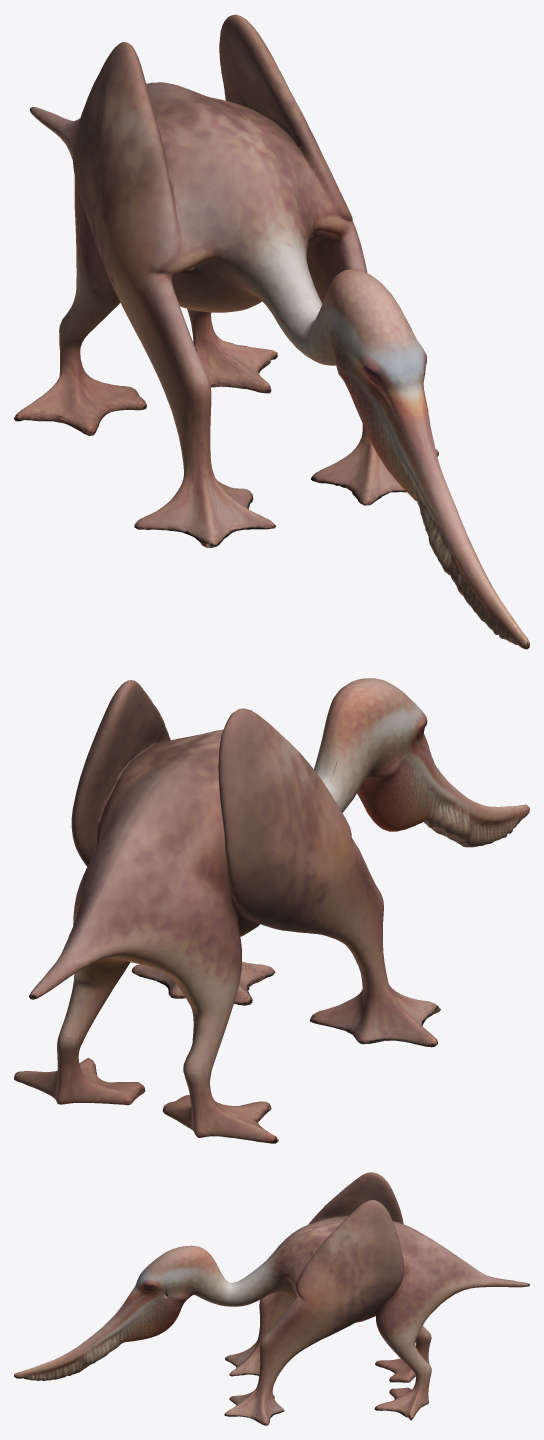
The picture shows the model from 3 angles, top to bottom: view 1: azimuth 30°, elevation 25°; view 2: azimuth 150°, elevation 25°; view 3: azimuth 270°, elevation 25°; orthographic projection. The views are drawn at different scales.
Parts seen in each view (by area): view 1: world; view 2: world; view 3: world.
Boxes of the visible parts, <box> form: world: <box>14,14,529,649</box>; world: <box>14,678,529,1143</box>; world: <box>14,1172,529,1425</box>.
Size of the model in its own units: 0.4948 by 0.6028 by 1.4.
Materials: 1 (1 with a texture image).
